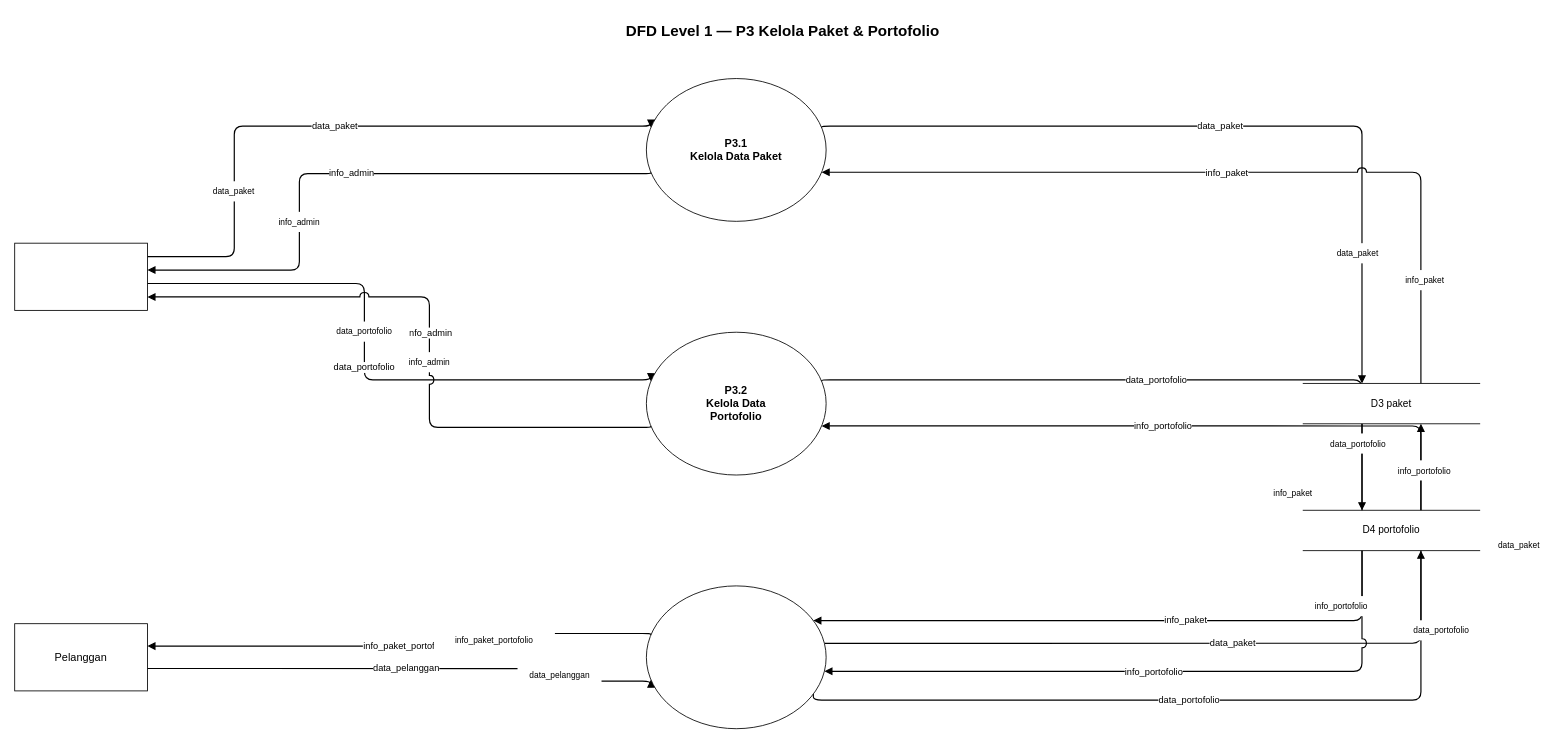
Some shapes in this 1566 by 743 pixel diagram are drawn without their labels. Each missing label, with the centre of its shape:
Admin: the point at 80,276
P3.3 Tampilkan Info Paket & Portofolio: the point at 736,657
